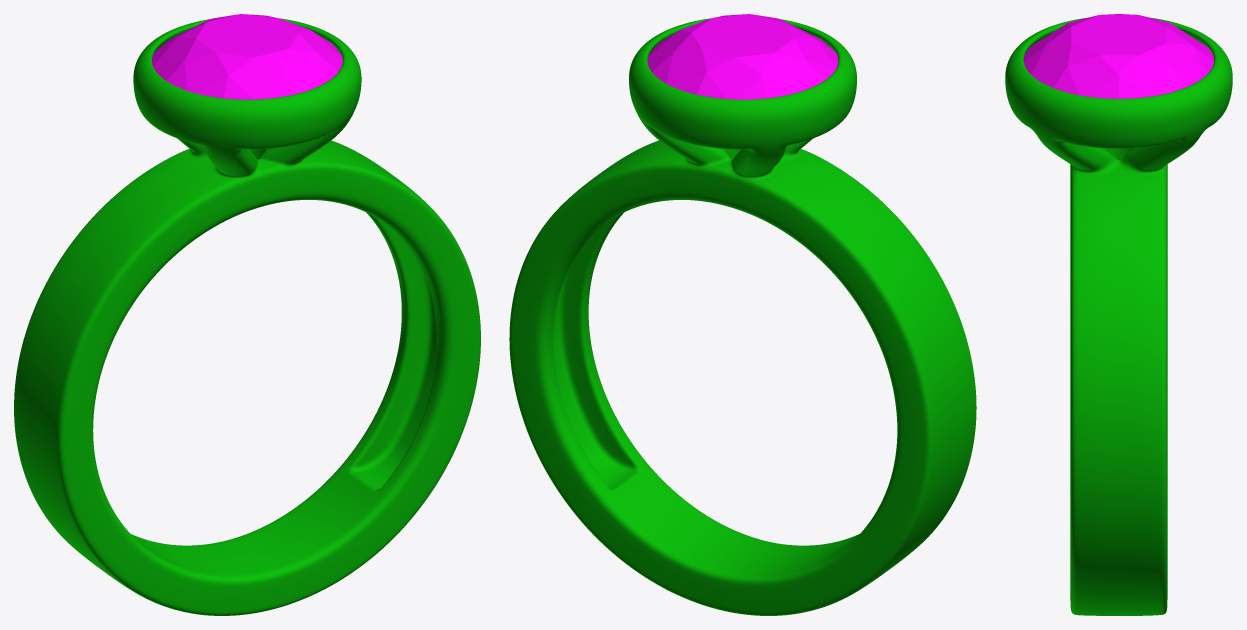
File: BE13477_RD_200ct_RENDER.glb
3 renders of one model, left to right at view 1: azimuth 30°, elevation 25°; view 2: azimuth 150°, elevation 25°; view 3: azimuth 270°, elevation 25°, orthographic.
Parts seen in each view (by area): view 1: Metal 01, CS_Diamond_Round; view 2: Metal 01, CS_Diamond_Round; view 3: Metal 01, CS_Diamond_Round.
Part boxes in pixels (<box>): Metal 01: <box>14,18,480,615</box>; CS_Diamond_Round: <box>152,14,342,99</box>; Metal 01: <box>509,18,976,615</box>; CS_Diamond_Round: <box>647,14,838,99</box>; Metal 01: <box>1005,17,1232,615</box>; CS_Diamond_Round: <box>1023,14,1213,98</box>.
Bounding box in the file's own units: 20.12 × 25.31 × 9.36.
